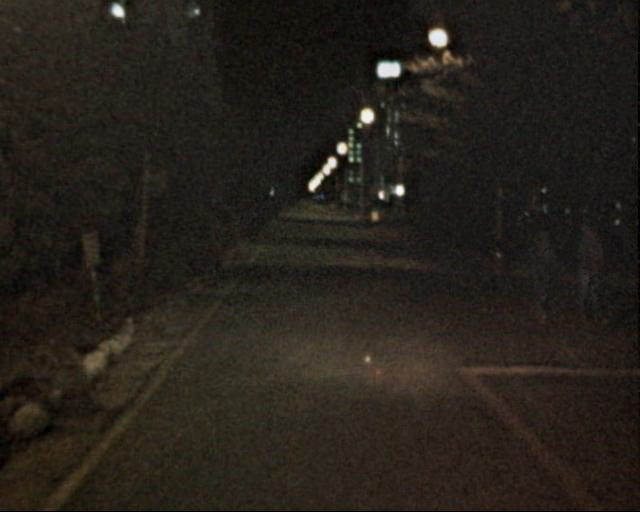person: (566, 217, 609, 321), (523, 230, 561, 323)
